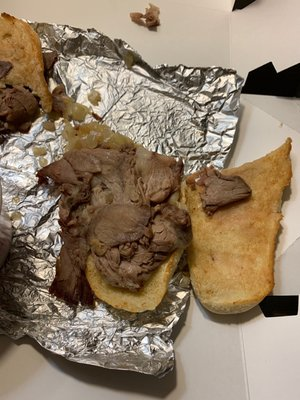soup: (35, 122, 192, 315), (180, 140, 292, 315)
